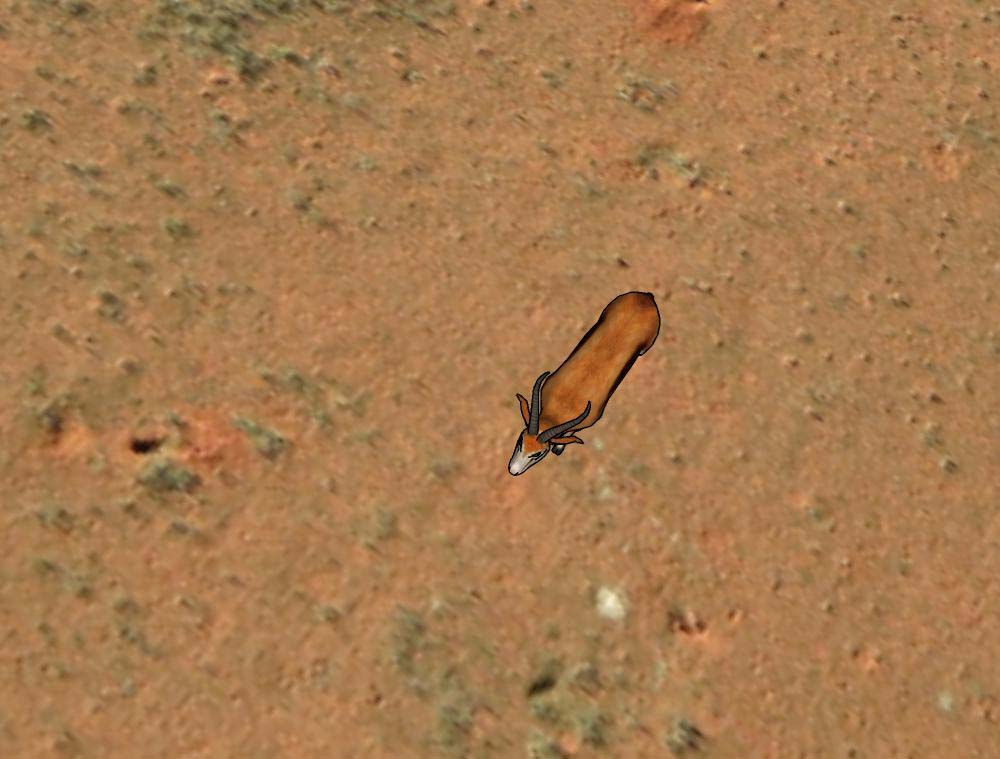springbok: (507, 288, 665, 484)
